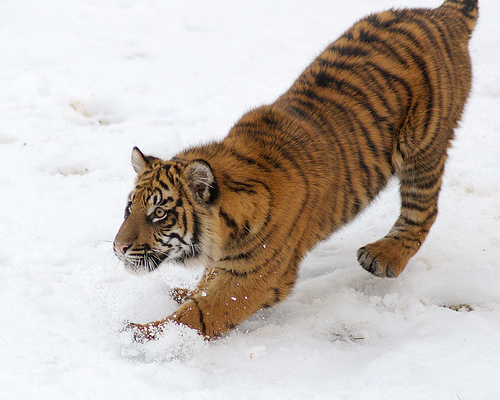Tigre: (94, 12, 483, 334)
